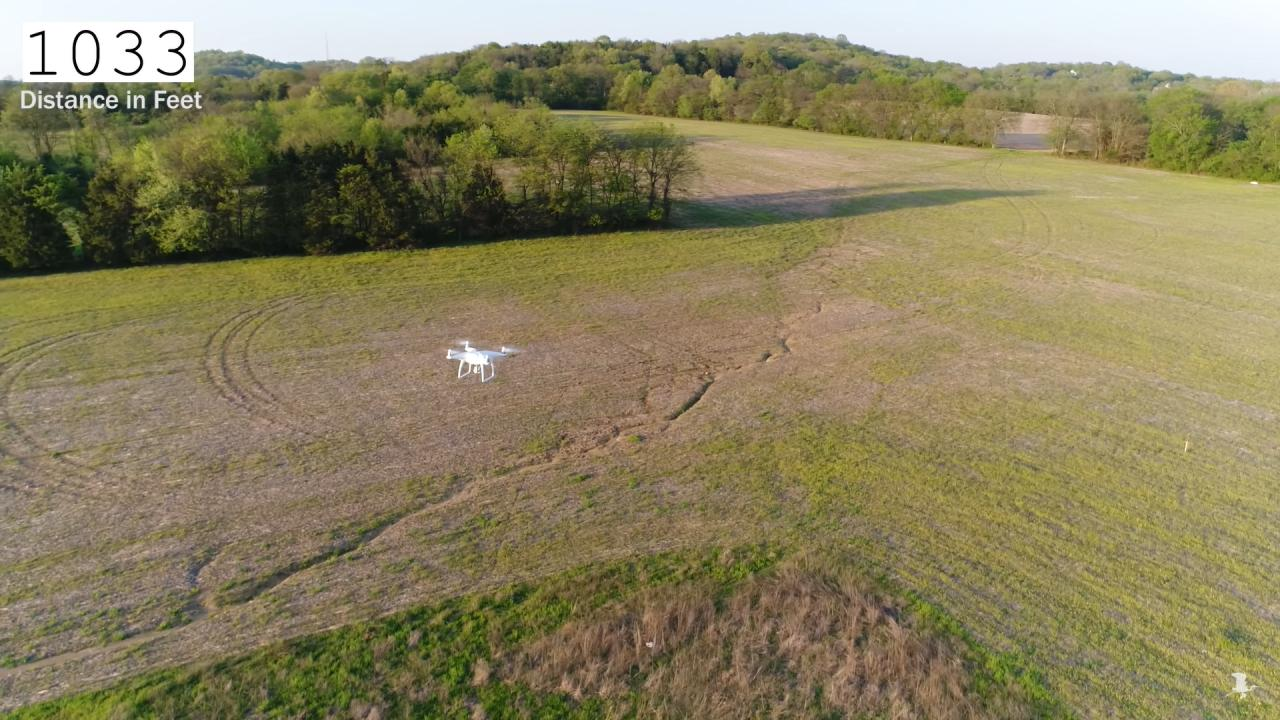Drone: (432, 330, 532, 390)
